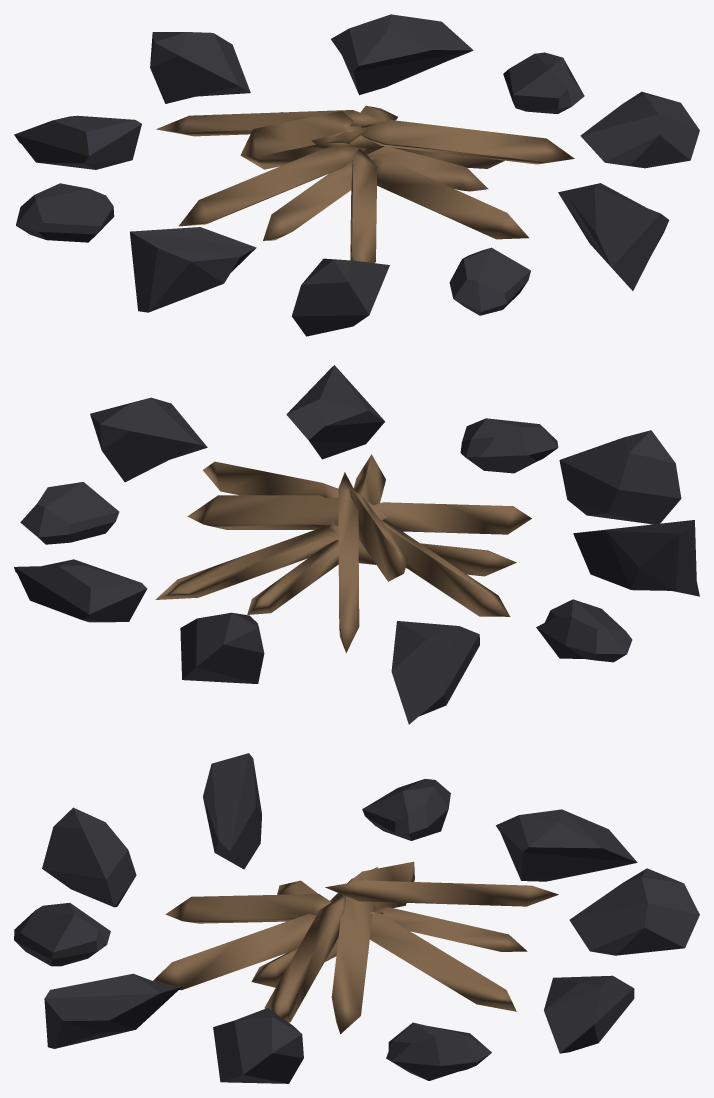
File: fire.fbx
3 views of the same model, one above another, from view 1: azimuth 30°, elevation 25°; view 2: azimuth 150°, elevation 25°; view 3: azimuth 270°, elevation 25° (orthographic). The views are drawn at different scales.
Parts seen in each view (by area): view 1: firerock7, pasted__firerock2, firerock1, firerock5, firerock4, firerock8, firerock9, polySurface13, polySurface12, polySurface5, firerock10, polySurface14 (+7 smaller); view 2: firerock8, firerock7, firerock9, firerock1, pasted__firerock2, firerock4, firerock5, polySurface11, polySurface9, firerock6, firerock10, firerock3 (+8 smaller); view 3: firerock4, firerock9, firerock5, firerock8, firerock1, firerock7, pasted__firerock2, polySurface5, polySurface4, polySurface9, firerock3, firerock6 (+7 smaller).
Part boxes in pixels (box(x1,y1,x2,y2)): firerock7: box(130, 227, 256, 312); pasted__firerock2: box(331, 14, 473, 95); firerock1: box(580, 91, 699, 168); firerock5: box(558, 183, 669, 290); firerock4: box(150, 32, 250, 103); firerock8: box(292, 258, 389, 336); firerock9: box(14, 115, 141, 169); polySurface13: box(359, 119, 574, 164); polySurface12: box(179, 146, 366, 226); polySurface5: box(371, 158, 528, 239); firerock10: box(16, 183, 114, 242); polySurface14: box(240, 111, 364, 169); firerock8: box(559, 430, 681, 524); firerock7: box(573, 520, 699, 596); firerock9: box(391, 621, 479, 724); firerock1: box(90, 397, 207, 482); pasted__firerock2: box(14, 559, 147, 622); firerock4: box(180, 612, 264, 683); firerock5: box(286, 365, 384, 459); polySurface11: box(187, 495, 386, 529); polySurface9: box(155, 527, 338, 599); firerock6: box(20, 482, 119, 544); firerock10: box(536, 599, 632, 662); firerock3: box(460, 418, 558, 473); firerock4: box(569, 868, 699, 955); firerock9: box(496, 809, 637, 881); firerock5: box(44, 973, 181, 1048); firerock8: box(42, 807, 136, 907); firerock1: box(213, 1008, 303, 1083); firerock7: box(203, 753, 261, 869); pasted__firerock2: box(544, 975, 634, 1053); polySurface5: box(153, 914, 316, 990); polySurface4: box(325, 880, 558, 906); polySurface9: box(370, 913, 516, 1011); firerock3: box(14, 902, 110, 966); firerock6: box(386, 1022, 491, 1080).
Bounding box in the file's own units: 1.38 × 0.2271 × 1.33.
